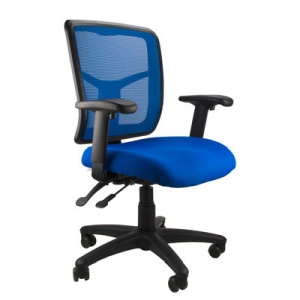chair: (63, 18, 237, 294)
